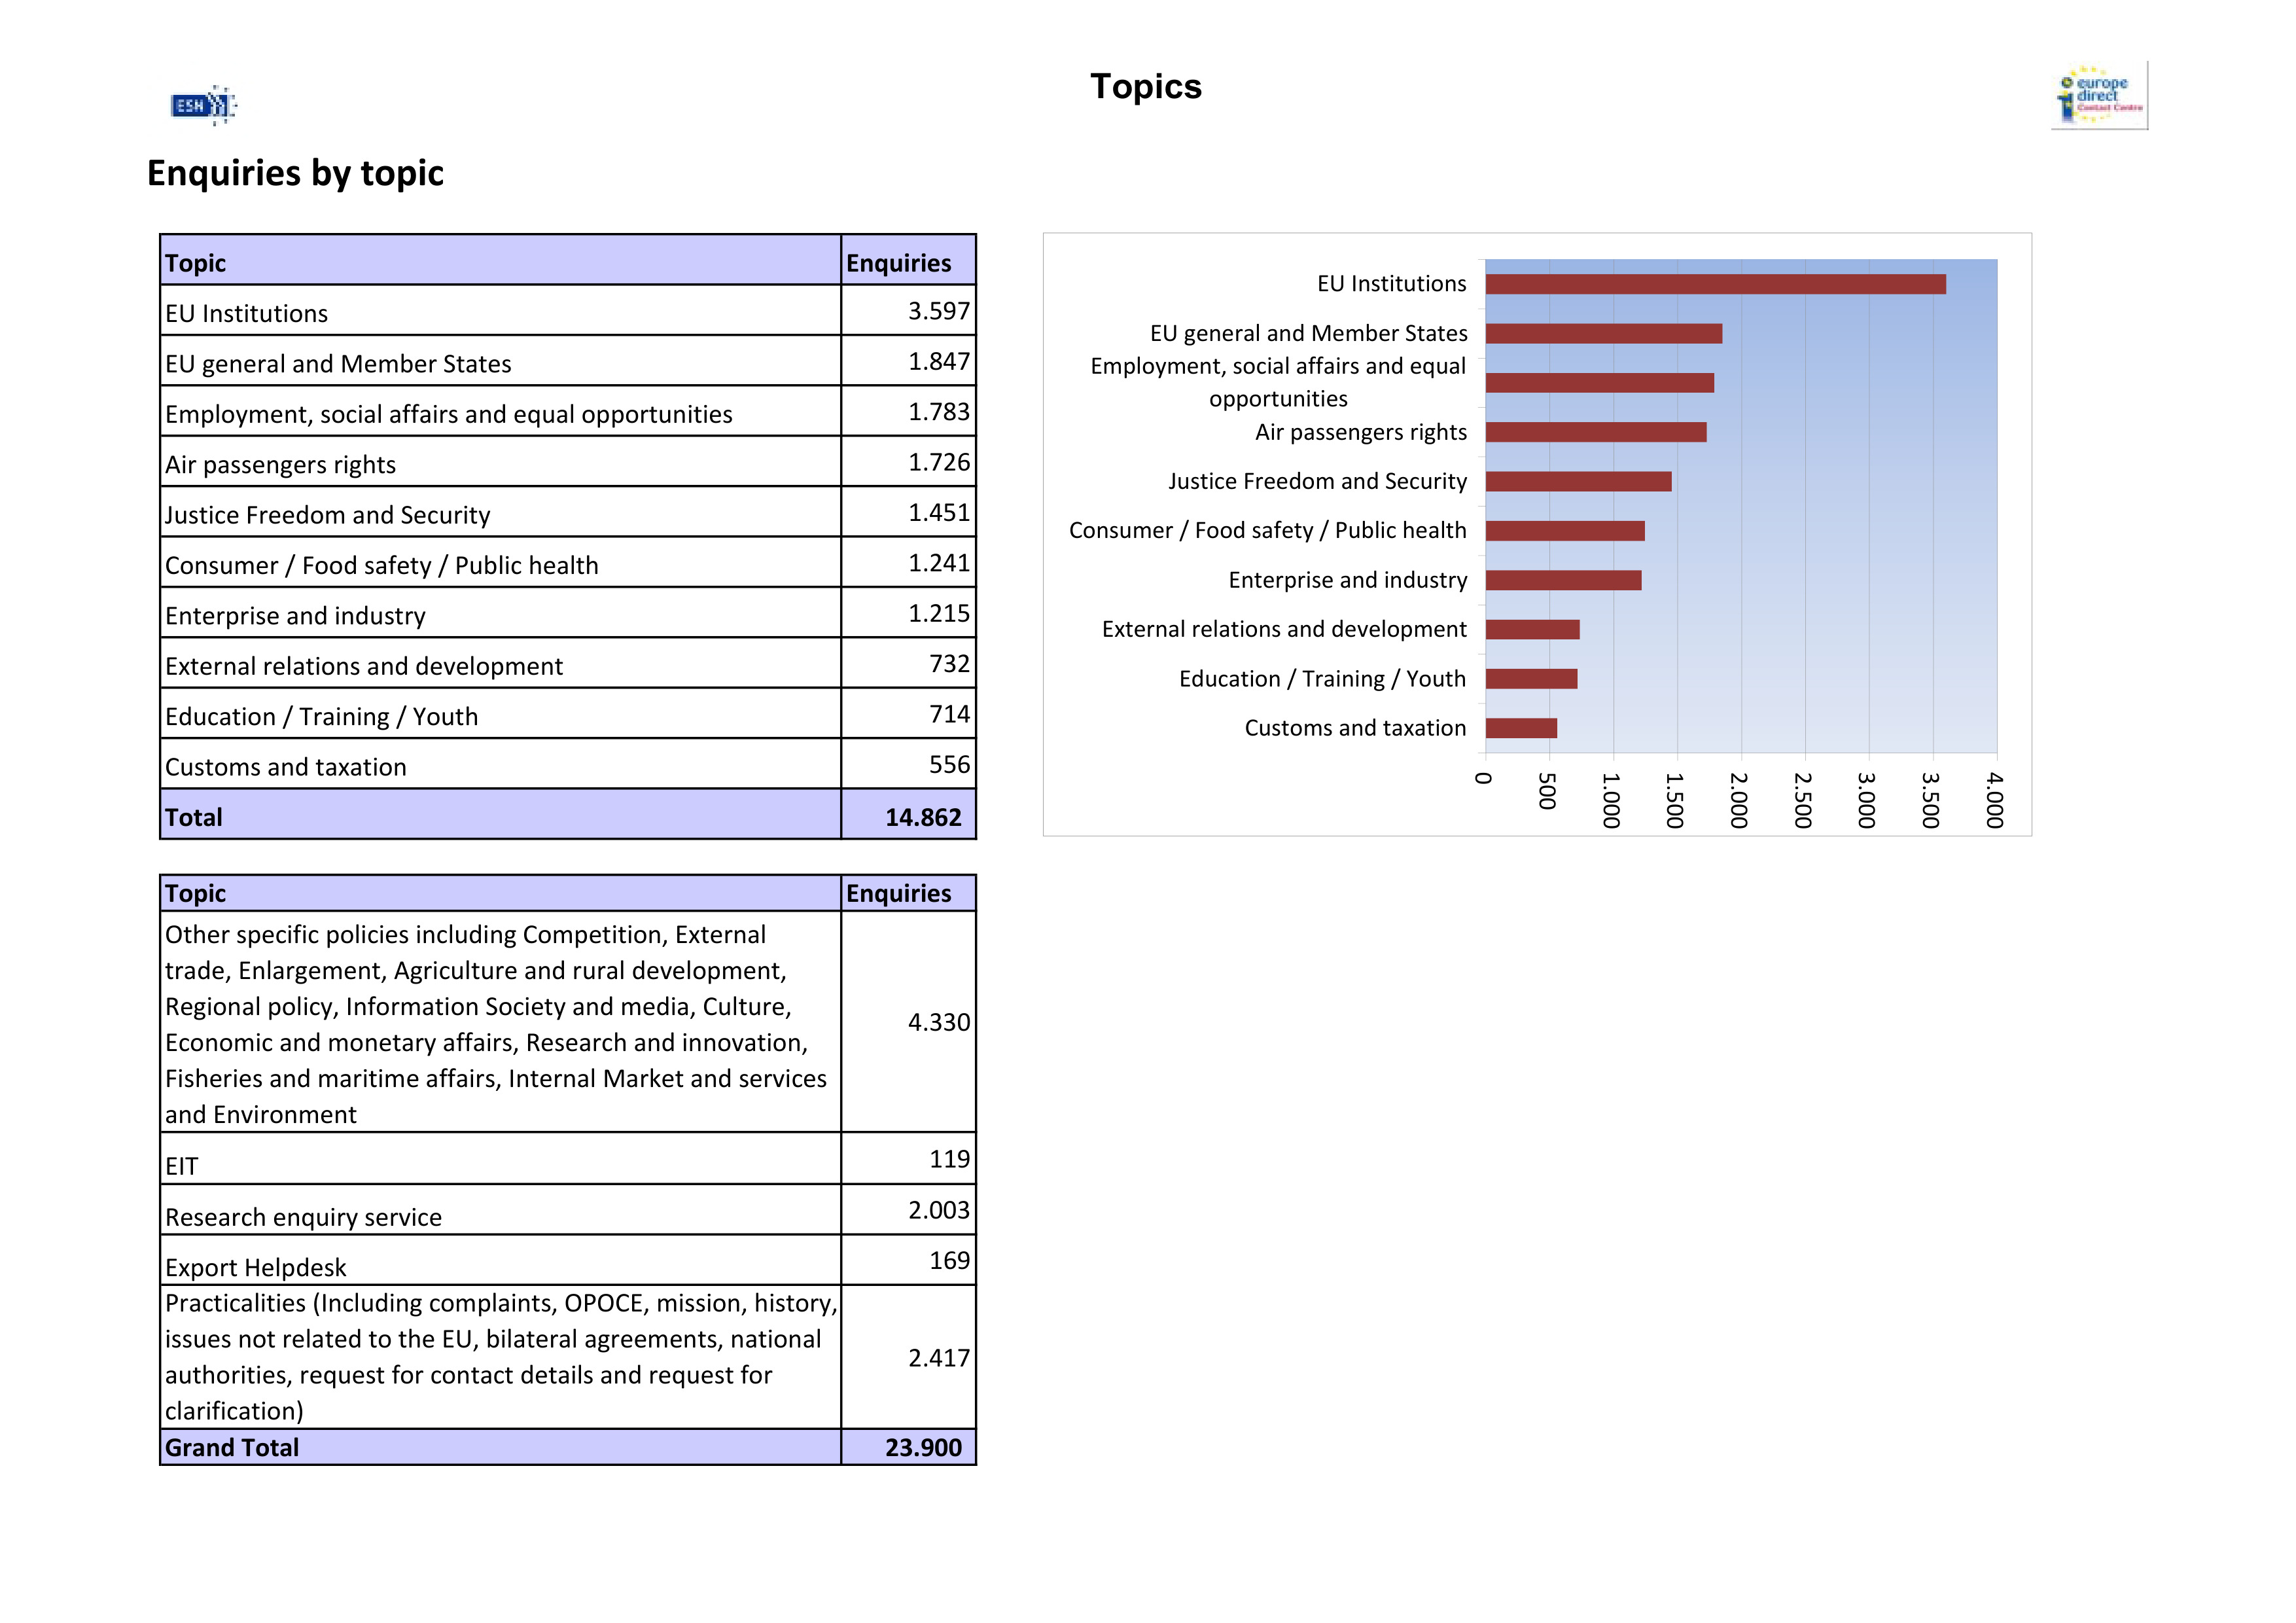table: (165, 880, 971, 1463), (165, 251, 971, 833)
